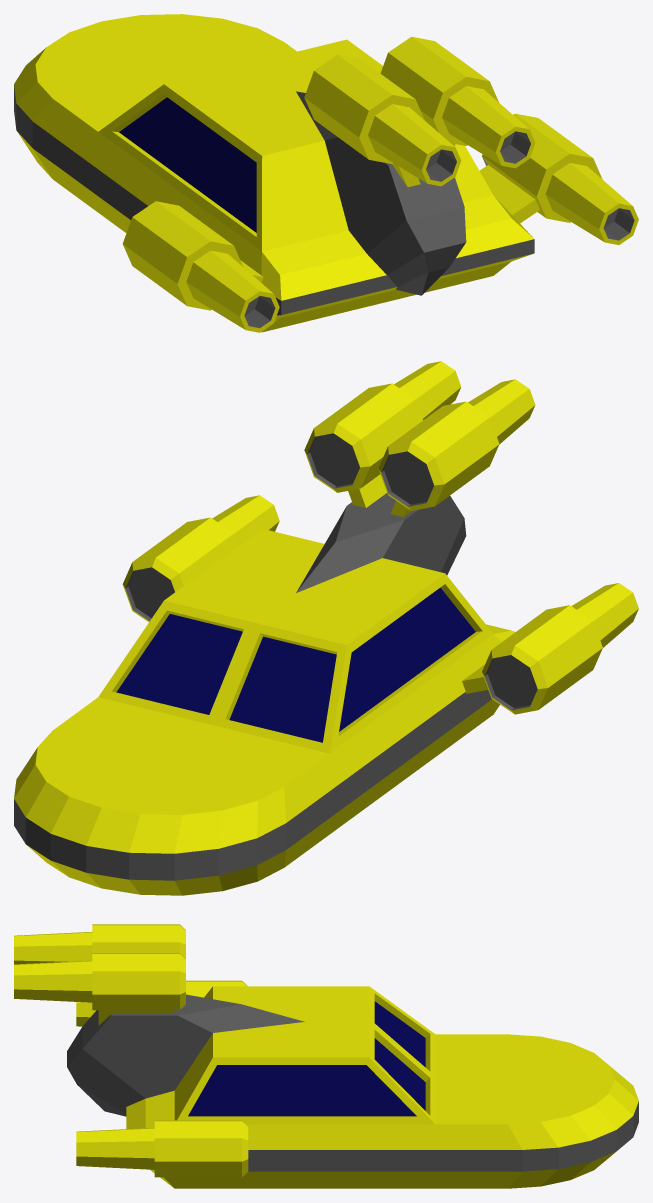
File: Rover.fbx
3 renders of one model, top to bottom at view 1: azimuth 30°, elevation 25°; view 2: azimuth 150°, elevation 25°; view 3: azimuth 270°, elevation 25°, orthographic. The views are drawn at different scales.
Parts seen in each view (by area): view 1: Rover; view 2: Rover; view 3: Rover.
Boxes of the visible parts, bbox=[...] form: Rover: bbox=[14, 14, 638, 332]; Rover: bbox=[14, 361, 638, 895]; Rover: bbox=[14, 924, 638, 1188].
Size of the model in its own units: 551 by 317 by 880.
